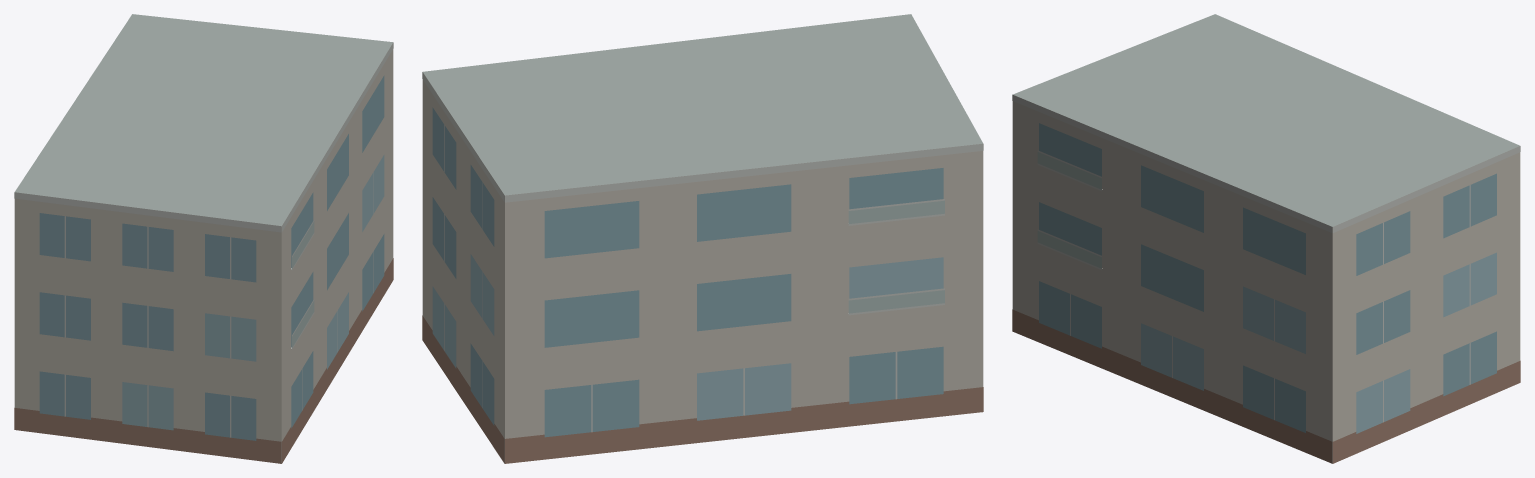
Rendered from survey-upis-32947013.glb.
The picture shows the model from 3 angles, left to right: view 1: azimuth 30°, elevation 25°; view 2: azimuth 150°, elevation 25°; view 3: azimuth 270°, elevation 25°; orthographic projection. The views are drawn at different scales.
Parts seen in each view (by area): view 1: survey-upis-32947013.tmp; view 2: survey-upis-32947013.tmp; view 3: survey-upis-32947013.tmp.
Part boxes in pixels (x1,y1,x2,y2): survey-upis-32947013.tmp: [14, 14, 393, 463]; survey-upis-32947013.tmp: [422, 14, 983, 463]; survey-upis-32947013.tmp: [1012, 14, 1520, 463].
Bounding box in the file's own units: 17.65 × 9.15 × 17.79.
